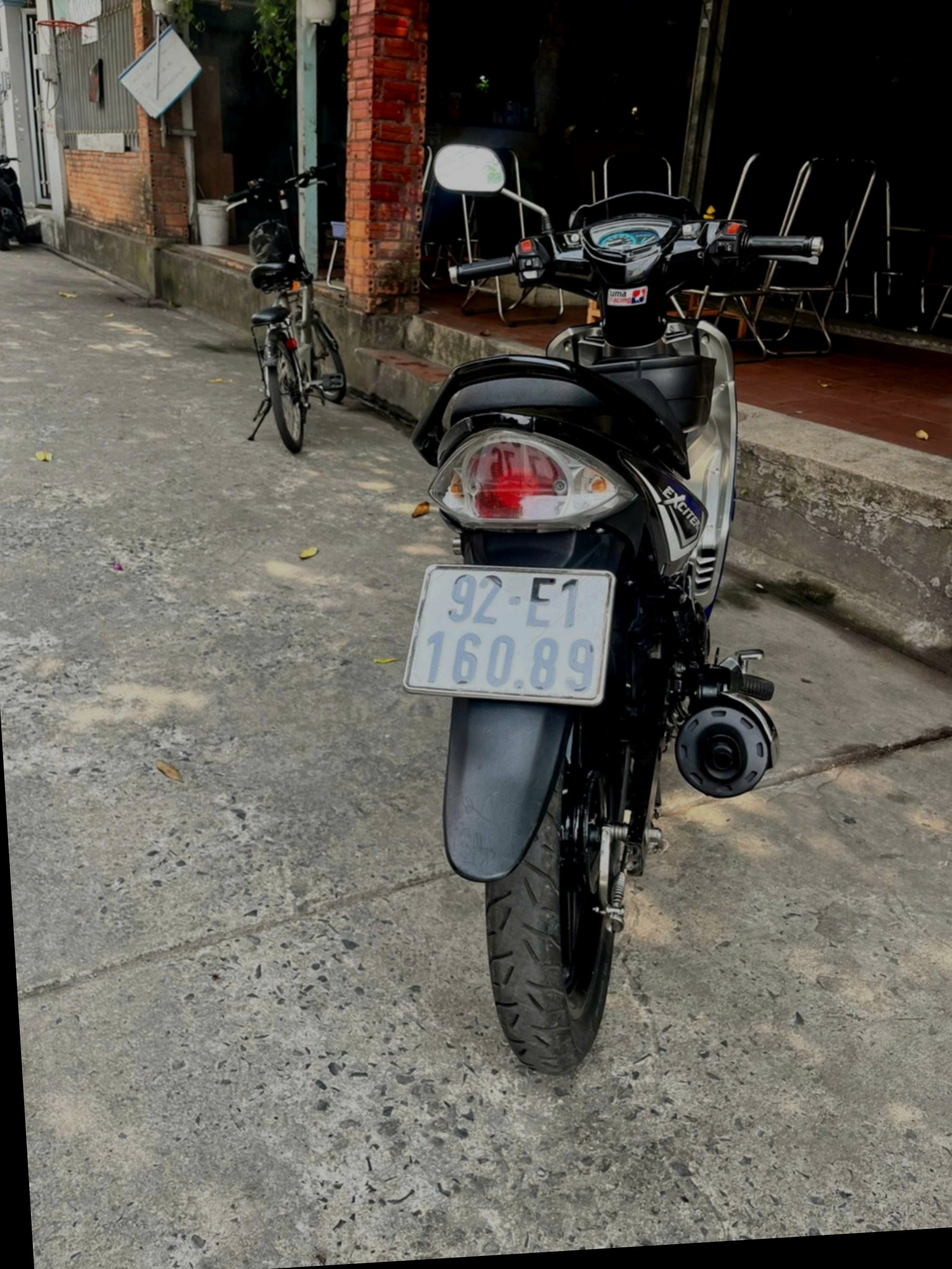Bien-so: (400, 553, 621, 718)
